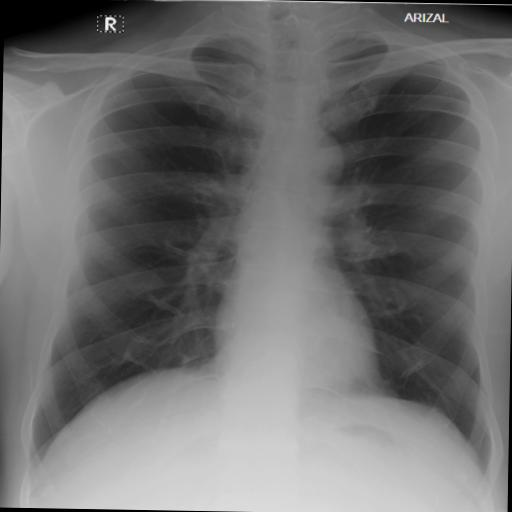normal: (13, 15, 507, 486)
